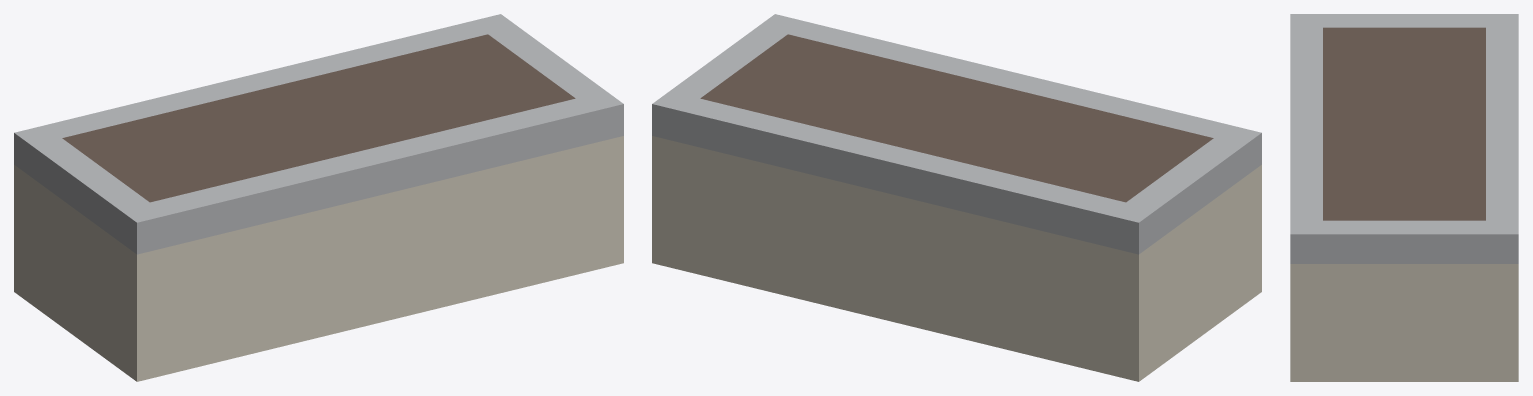
The model's file is jardiniere.glb.
3 views of the same model, side by side, from view 1: azimuth 30°, elevation 25°; view 2: azimuth 150°, elevation 25°; view 3: azimuth 270°, elevation 25° (orthographic). The views are drawn at different scales.
Visible parts, largest first — view 1: main; view 2: main; view 3: main.
Boxes of the visible parts, x1,y1,x2,y2 form: main: (14,14,623,381); main: (652,14,1261,381); main: (1290,14,1518,381).
Bounding box in the file's own units: 2 × 0.625 × 0.875.
